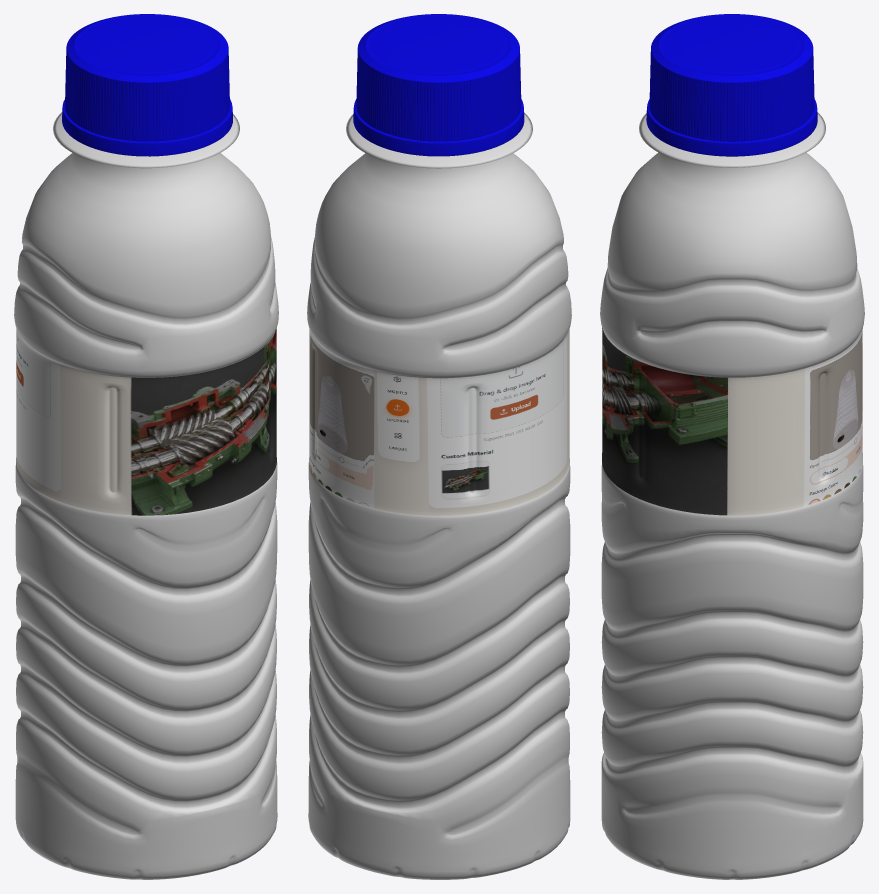
File: waterBottle1.glb
3 views of the same model, side by side, from view 1: azimuth 30°, elevation 25°; view 2: azimuth 150°, elevation 25°; view 3: azimuth 270°, elevation 25° (orthographic).
Parts seen in each view (by area): view 1: Circle, Circle.005, Circle.012, Circle.013; view 2: Circle, Circle.005, Circle.012, Circle.013; view 3: Circle, Circle.005, Circle.012, Circle.013.
Boxes of the visible parts, x1,y1,x2,y2 form: Circle: (14, 112, 278, 879); Circle.005: (16, 328, 276, 515); Circle.012: (62, 14, 232, 156); Circle.013: (65, 43, 229, 141); Circle: (307, 112, 571, 879); Circle.005: (309, 328, 569, 515); Circle.012: (353, 14, 524, 156); Circle.013: (356, 40, 521, 141); Circle: (600, 112, 864, 879); Circle.005: (602, 327, 862, 515); Circle.012: (646, 14, 817, 156); Circle.013: (649, 43, 814, 141).
Size of the model in its own units: 0.0508 by 0.1663 by 0.0508.
4 materials, 2 textured.
